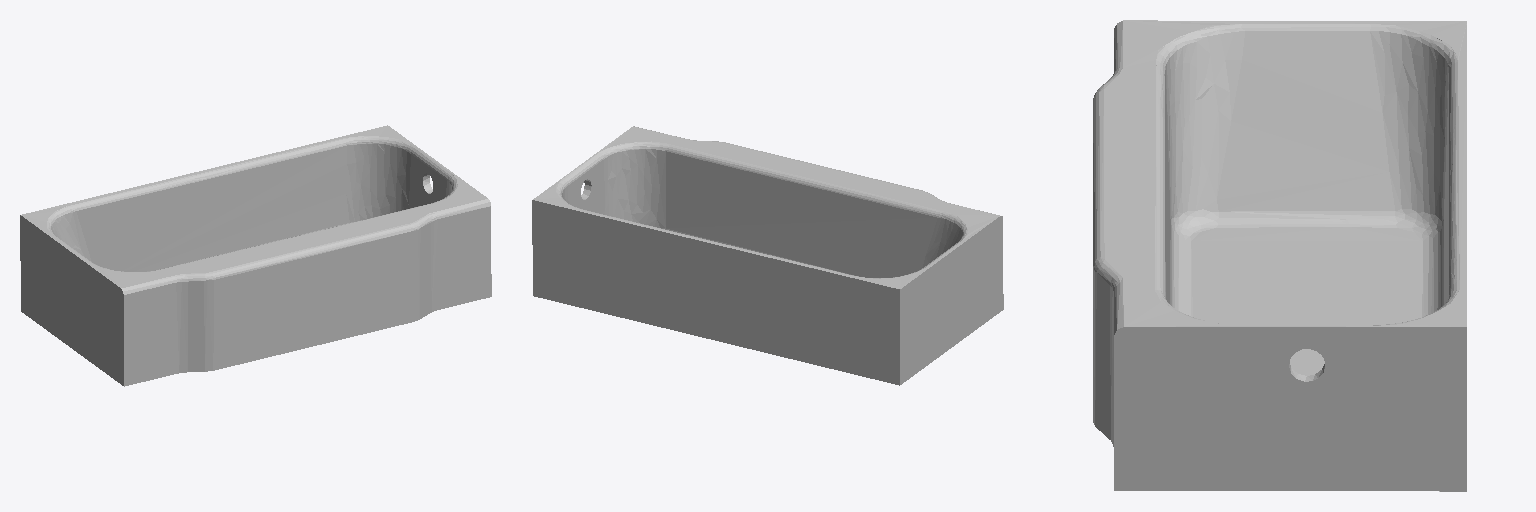
robot.urdf — bathtub:
<?xml version="1.0"?>
<robot name="bathtub">
<link name="bathtub_base_link">
  <inertial>
    <mass value="1.0"/>
    <origin xyz="0 0 0" rpy="1.57 0 0"/>
    <inertia ixx="0.01" ixy="0" ixz="0" iyy="0.01" iyz="0" izz="0.01"/>
  </inertial>

  <visual>
    <origin xyz="0 0 0" rpy="1.57 0 0"/>
    <geometry>
      <mesh filename="package://meshes/bathtub.dae" scale="1 1 1"/>
    </geometry>
    <material name="material_name">
      <color rgba="1.0 1.0 1.0.0 1.0"/>
    </material>
  </visual>

  <collision>
    <origin xyz="0 0 0" rpy="1.57 0 0"/>
    <geometry>
      <mesh filename="package://meshes/bathtub.dae" scale="1 1 1"/> 
      
      </geometry>
  </collision>
</link>
</robot>

--- Render facts (derived) ---
The picture shows the robot from 3 angles, left to right: view 1: azimuth 30°, elevation 25°; view 2: azimuth 150°, elevation 25°; view 3: azimuth 270°, elevation 25°; orthographic projection.
Robot: bathtub — 1 links, 0 joints (none); root link bathtub_base_link; default pose: every joint at zero.
Visible links, largest first — view 1: bathtub_base_link; view 2: bathtub_base_link; view 3: bathtub_base_link.
Link boxes in pixels (left/top/right/bottom): bathtub_base_link: left=20, top=125, right=491, bottom=386; bathtub_base_link: left=532, top=126, right=1003, bottom=385; bathtub_base_link: left=1093, top=20, right=1466, bottom=491.
Bounding box of the posed robot: 1.52 × 0.7875 × 0.3816 m (x, y, z).
Meshes: 1 distinct files referenced, 1 mesh visuals loaded (1 Collada DAE).
